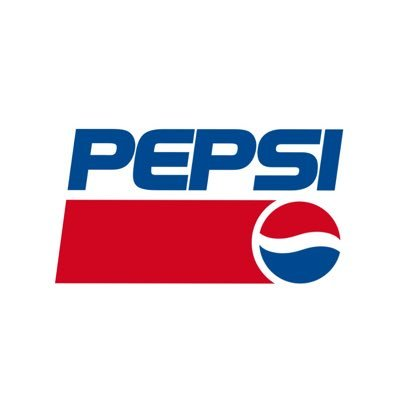pepsi: (261, 196, 339, 283)
